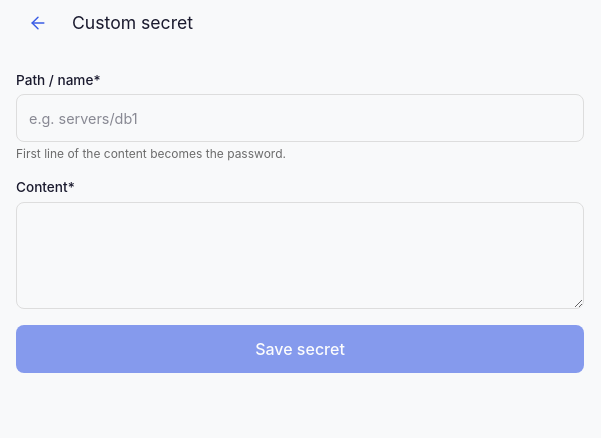
Test: CreateCustomPage › renders a warning when the store needs an age plugin binary
Type "misc/foo" into the field with id "c-name" at (300, 118), box x1=16 y1=94 x2=584 y2=142
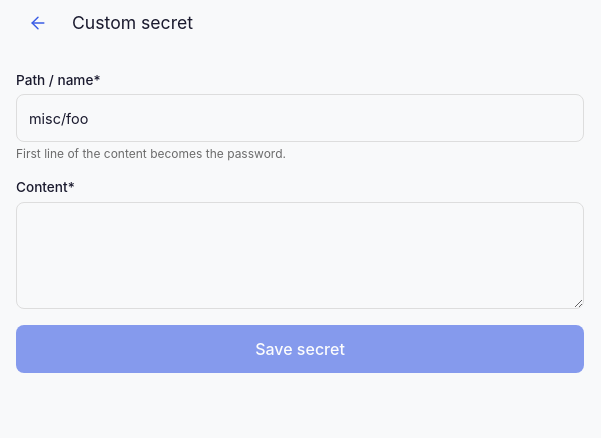
Type "hunter2" into the text box with id "c-content" at (300, 256), box x1=16 y1=202 x2=584 y2=309
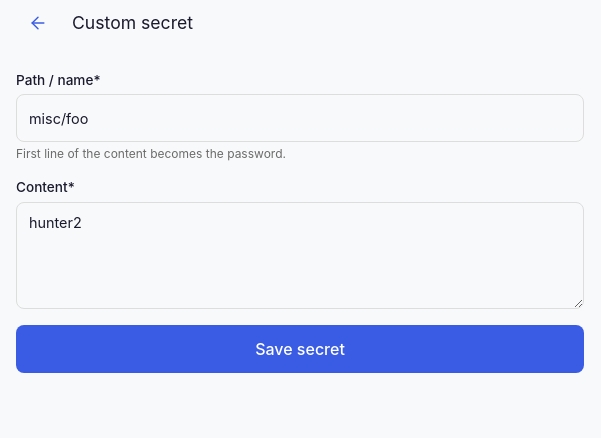
Submit the form
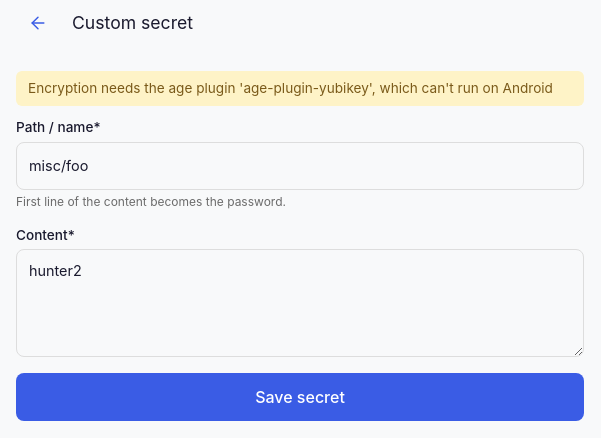
Expected: the message is shown, x1=16 y1=71 x2=584 y2=106
Expected: the message shows "age-plugin-yubikey", x1=28 y1=80 x2=553 y2=96
